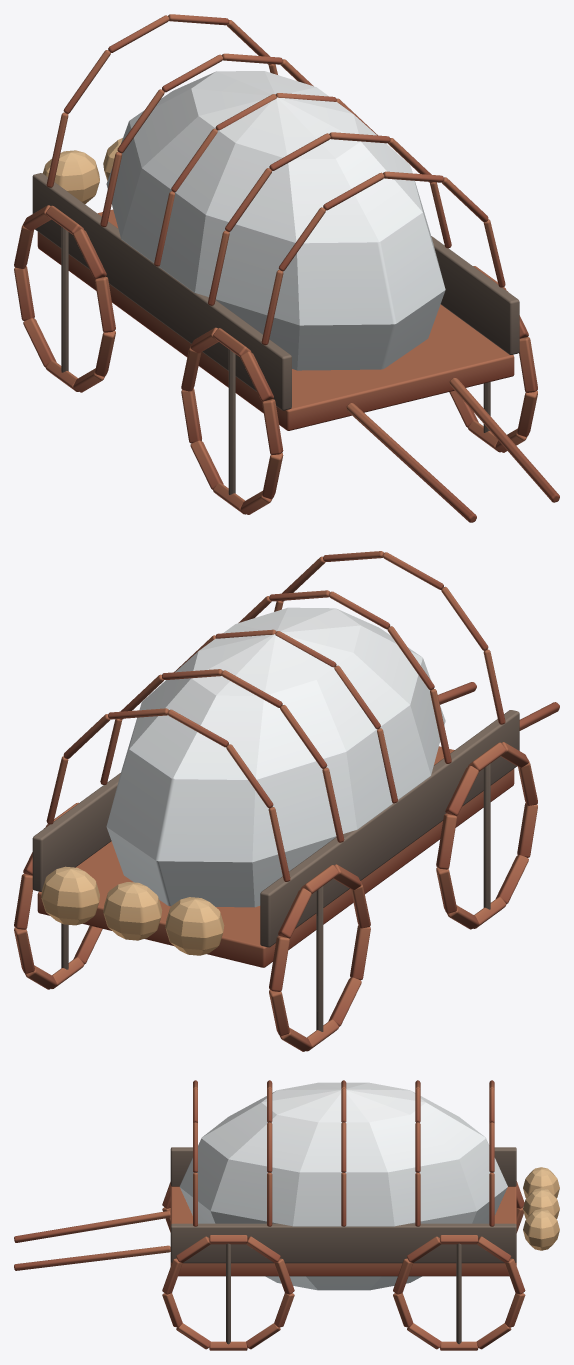
The model's file is caravan_wagon.glb.
3 renders of one model, top to bottom at view 1: azimuth 30°, elevation 25°; view 2: azimuth 150°, elevation 25°; view 3: azimuth 270°, elevation 25°, orthographic. The views are drawn at different scales.
Parts seen in each view (by area): view 1: caravan_wagon; view 2: caravan_wagon; view 3: caravan_wagon.
Boxes of the visible parts, x1,y1,x2,y2 form: caravan_wagon: (14,14,559,522); caravan_wagon: (14,551,559,1051); caravan_wagon: (14,1080,559,1350).
Size of the model in its own units: 2.59 by 2.95 by 6.63.
Materials: 1 (1 with a texture image).
